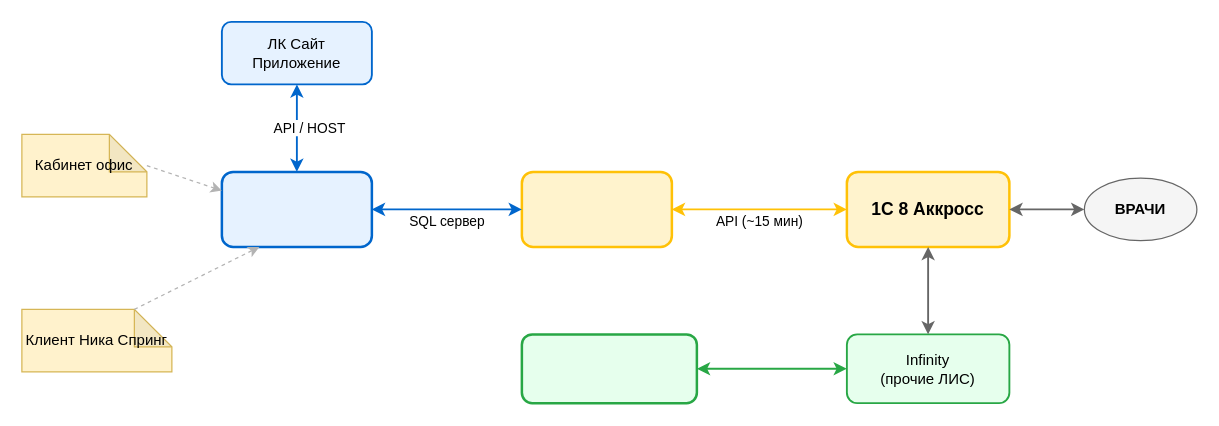
Some shapes in this 1219 by 426 pixel diagram are drawn without their labels. Each missing label, with the centre of its shape:
"1С 7.7" belongs at pixel 596 209.
"Оборудование" belongs at pixel 609 368.
"СУЗЗ (Ubuntu)" belongs at pixel 296 209.
